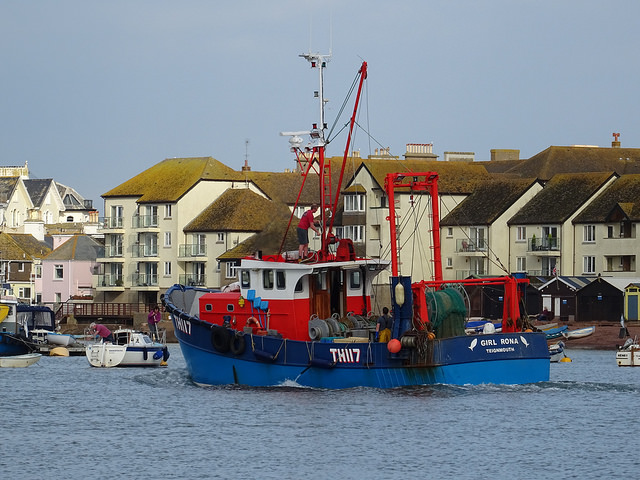boat: (73, 313, 166, 375)
fishing_boat: (164, 47, 550, 398)
